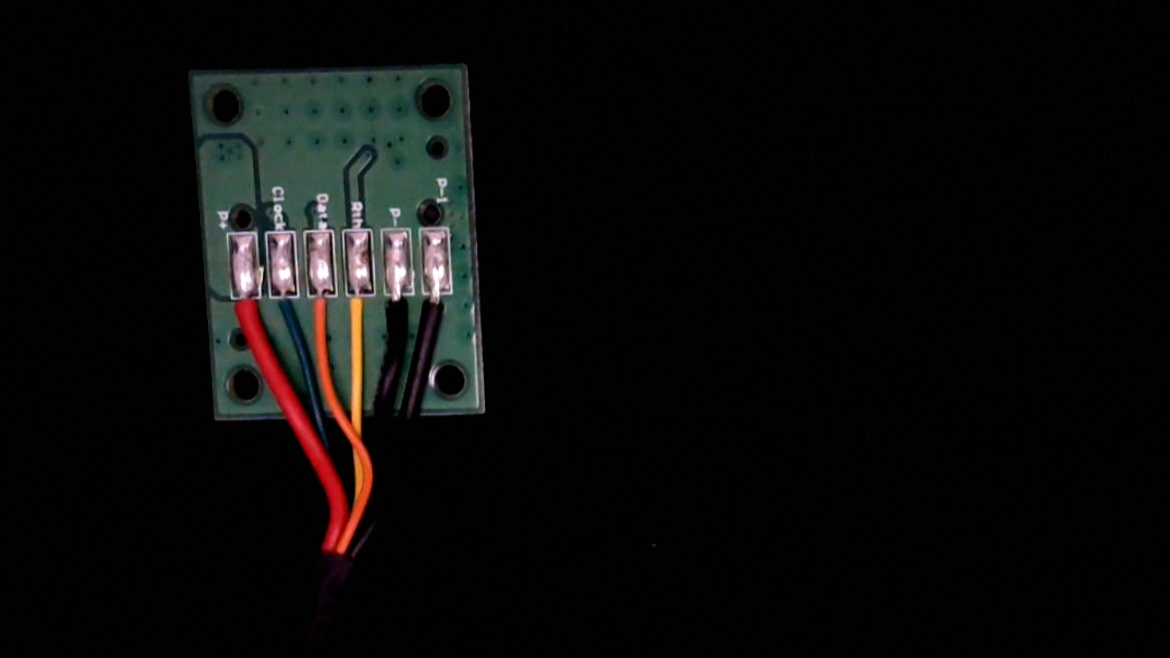Black: (382, 269, 416, 345)
Black1: (420, 271, 453, 340)
Green: (266, 274, 301, 348)
Orange: (305, 271, 338, 346)
Red: (228, 276, 263, 349)
Yellow: (340, 271, 374, 349)
